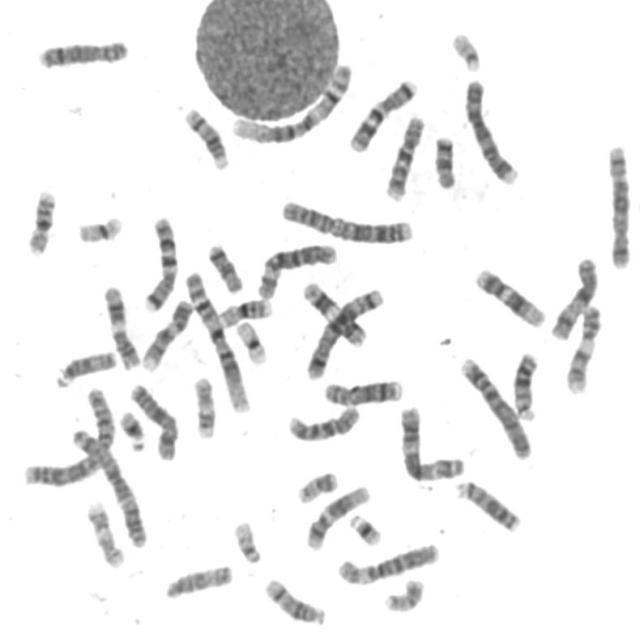A1: (225, 57, 355, 148), (180, 264, 253, 414)
A2: (18, 381, 116, 489), (276, 192, 417, 246)
A3: (66, 422, 149, 550), (394, 399, 468, 482)
B4: (456, 350, 535, 461), (459, 72, 521, 186)
B5: (302, 282, 388, 381), (602, 137, 634, 270)
C10: (380, 109, 428, 202), (283, 401, 363, 444)
C11: (298, 276, 370, 349), (99, 279, 142, 372)
C12: (302, 478, 374, 552), (471, 262, 548, 329)
C6: (332, 536, 442, 588), (252, 237, 339, 300)
C7: (344, 72, 420, 154), (138, 210, 180, 313)
C8: (32, 33, 132, 70), (319, 373, 405, 407)
C9: (136, 294, 195, 373), (562, 298, 604, 396)
D13: (452, 475, 524, 535), (509, 345, 541, 422)
D14: (260, 571, 329, 627), (179, 101, 231, 171)
D15: (160, 558, 235, 602), (50, 343, 119, 389)
E16: (22, 184, 58, 257), (213, 292, 274, 330)
E17: (82, 495, 127, 570), (189, 370, 218, 440)
E18: (203, 237, 246, 294), (430, 129, 460, 191)
F19: (72, 209, 126, 245), (232, 315, 270, 366)
F20: (379, 572, 428, 614), (292, 464, 340, 505)
G21: (344, 507, 385, 548), (115, 404, 149, 453)
G22: (229, 514, 265, 566), (446, 25, 484, 73)
X: (546, 250, 602, 342), (126, 376, 182, 462)
